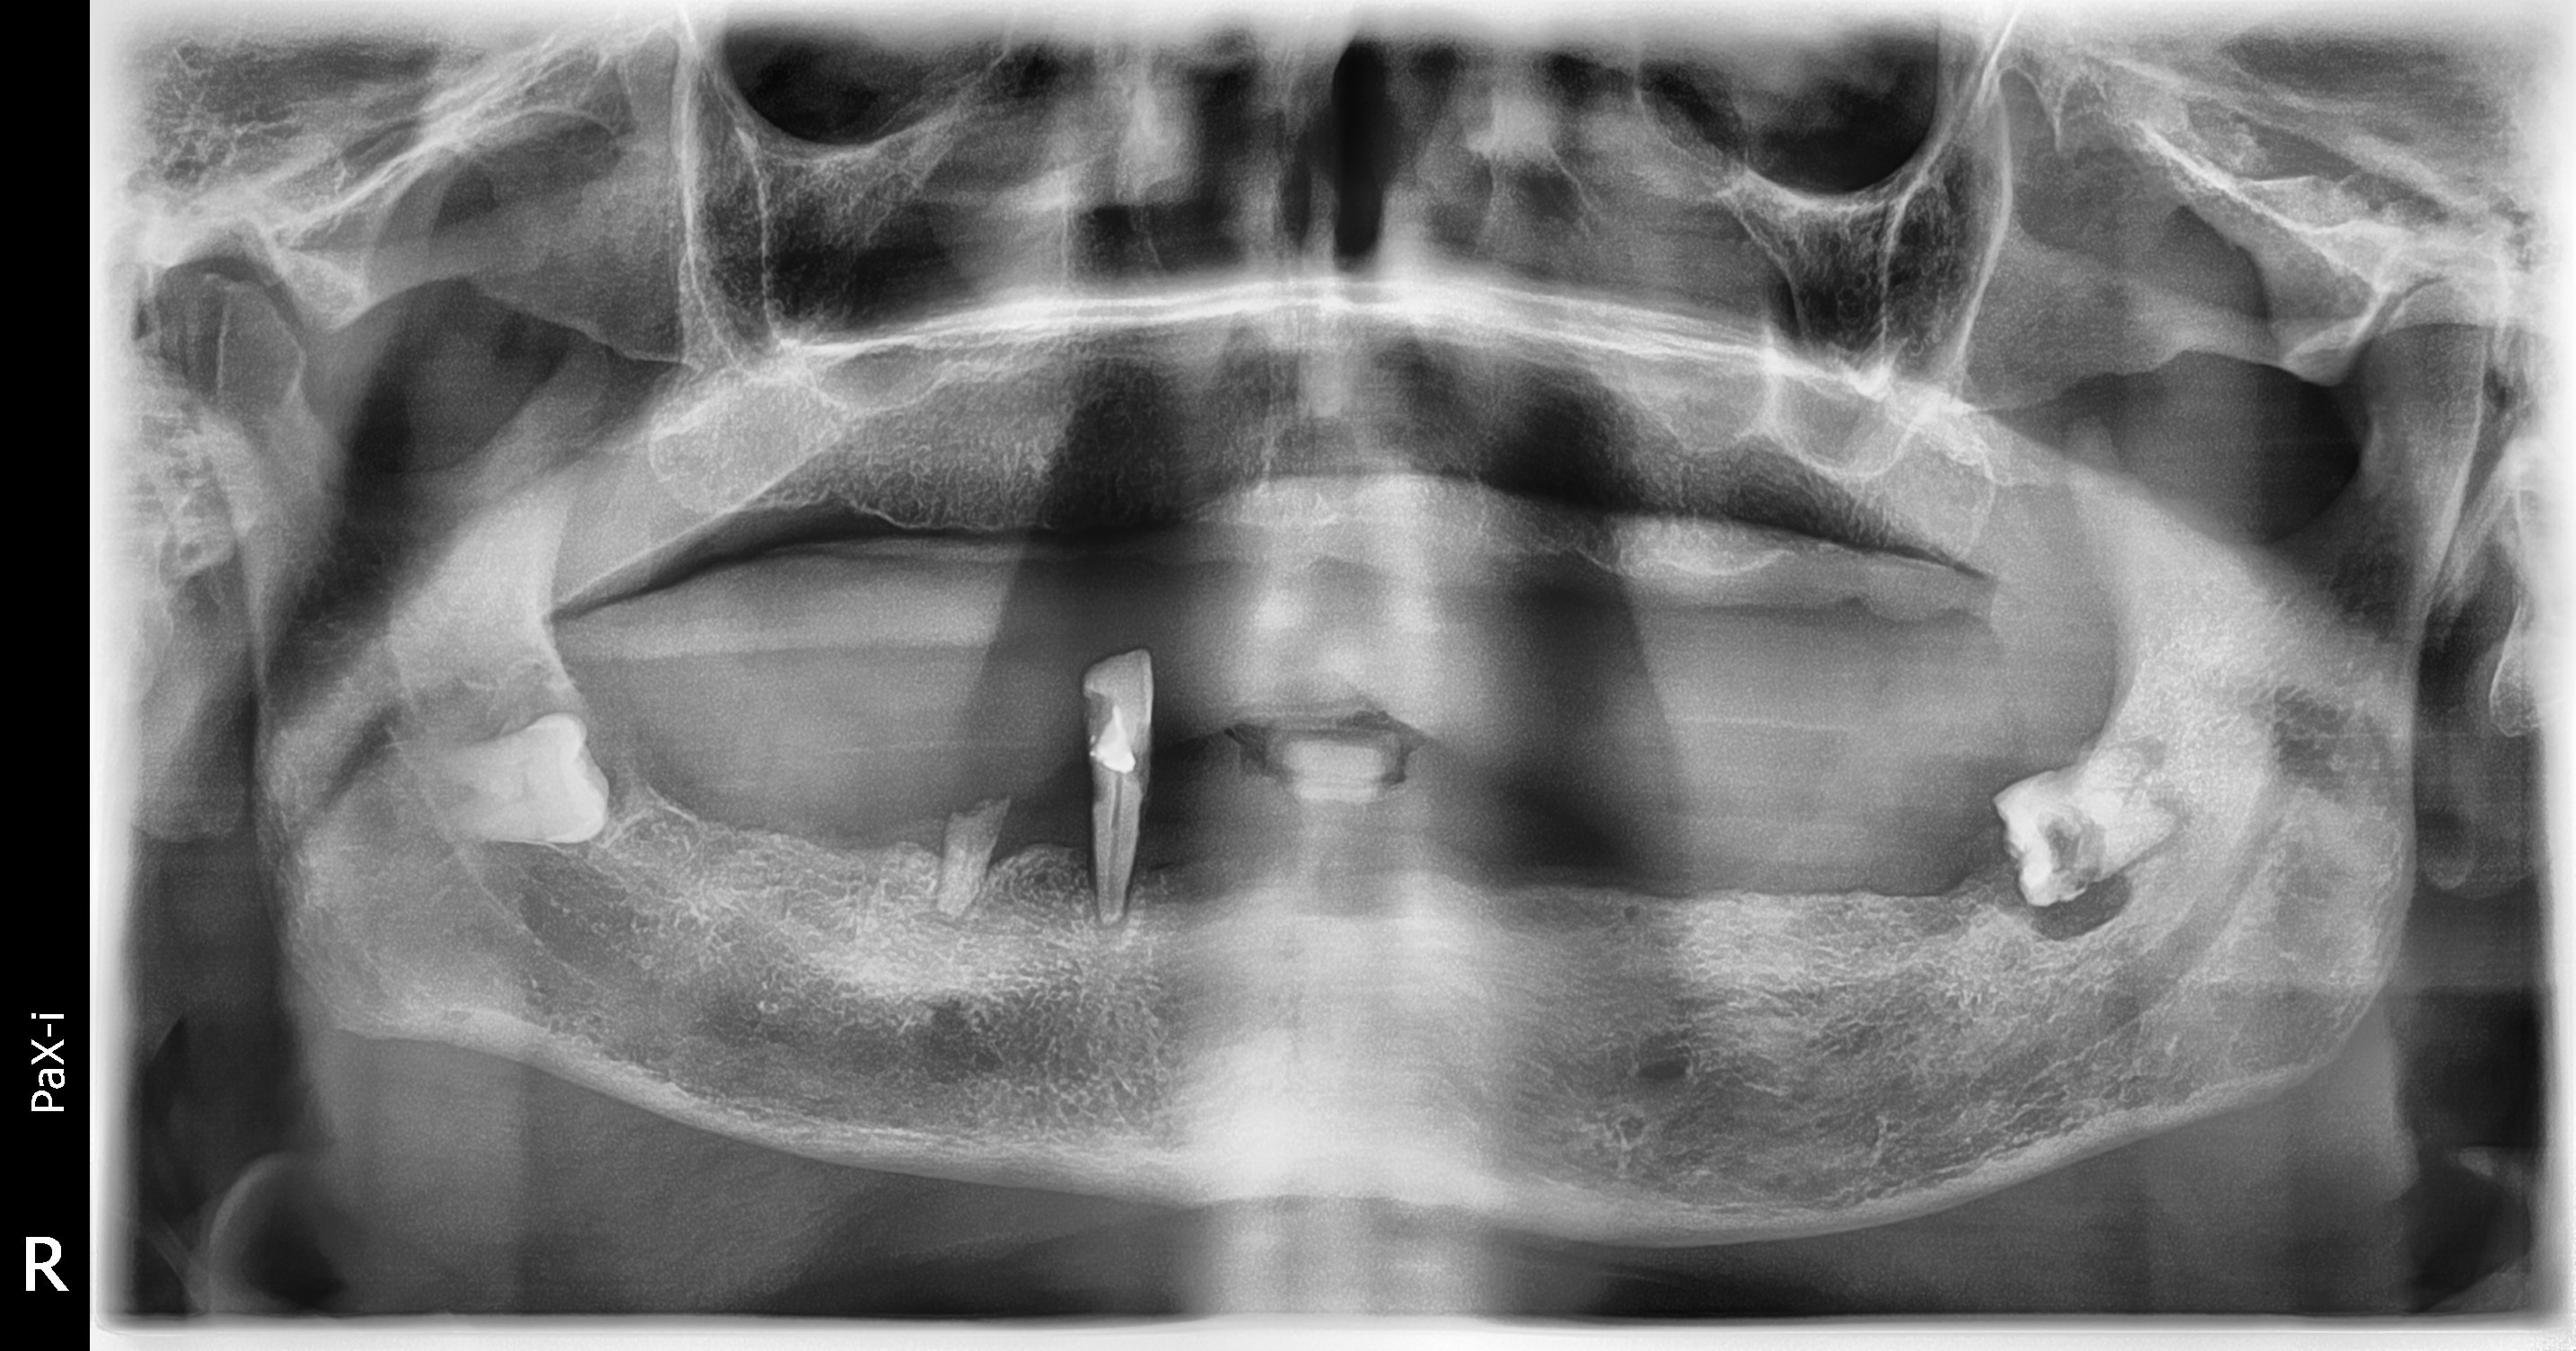API: (934, 874, 980, 928)
BON: (985, 843, 1027, 879)
CAR: (1082, 687, 1114, 804)
IMT: (445, 710, 610, 843)
OBT: (1089, 698, 1136, 773)
ROT: (937, 789, 1012, 915)
